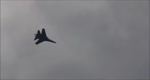maybay_muctieu: (33, 28, 56, 47)
